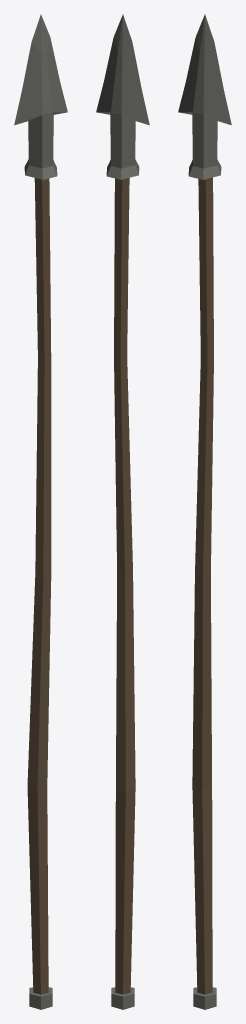
The model's file is spear.gltf.
3 renders of one model, left to right at view 1: azimuth 30°, elevation 25°; view 2: azimuth 150°, elevation 25°; view 3: azimuth 330°, elevation 25°, orthographic.
Parts seen in each view (by area): view 1: Spear; view 2: Spear; view 3: Spear.
Boxes of the visible parts, box(x1,y1,x2,y2) form: Spear: box(14, 14, 67, 1009); Spear: box(96, 14, 149, 1009); Spear: box(178, 14, 231, 1009).
Size of the model in its own units: 0.1118 by 1.98 by 0.0656.
2 materials, 2 textured.
